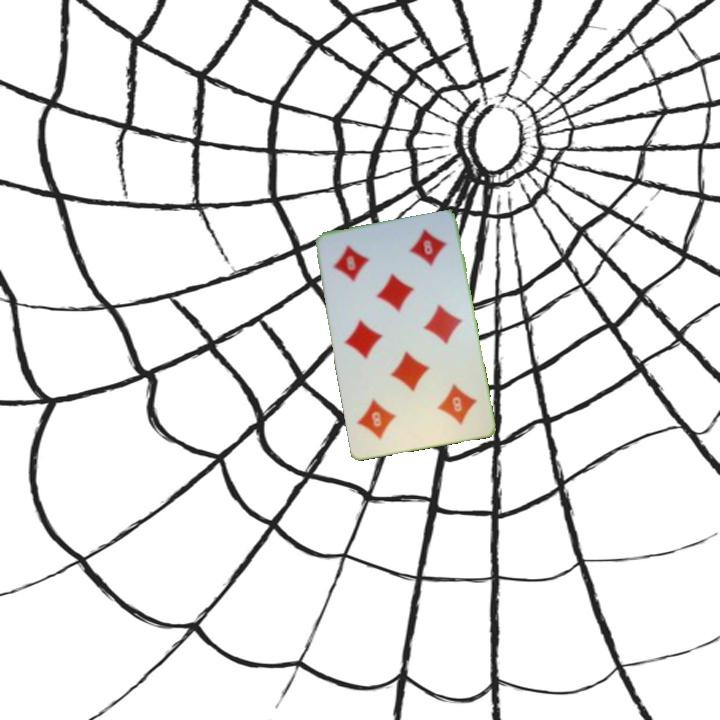d_8.png: (322, 230, 398, 299), (410, 371, 485, 439)
